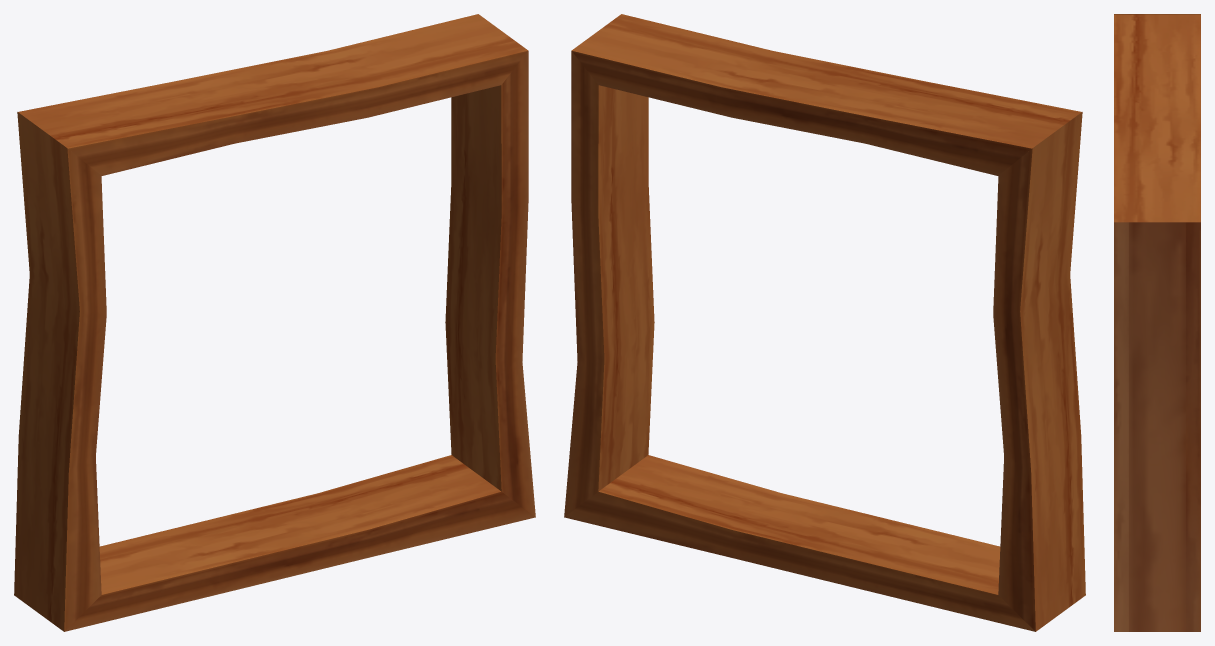
Rendered from PropWindow01TypeC_1_2.FBX.
3 renders of one model, left to right at view 1: azimuth 30°, elevation 25°; view 2: azimuth 150°, elevation 25°; view 3: azimuth 270°, elevation 25°, orthographic. The views are drawn at different scales.
Parts seen in each view (by area): view 1: PropWindow01TypeC_1_2; view 2: PropWindow01TypeC_1_2; view 3: PropWindow01TypeC_1_2.
Boxes of the visible parts, bbox=[...] form: PropWindow01TypeC_1_2: bbox=[14, 14, 535, 631]; PropWindow01TypeC_1_2: bbox=[564, 14, 1085, 631]; PropWindow01TypeC_1_2: bbox=[1114, 14, 1200, 631].
Size of what is drawn, in the model's own units: 1.66 by 1.62 by 0.3049.
